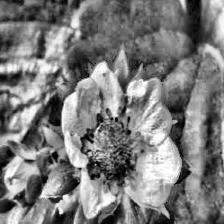Blossom Blight: (79, 105, 148, 197)
